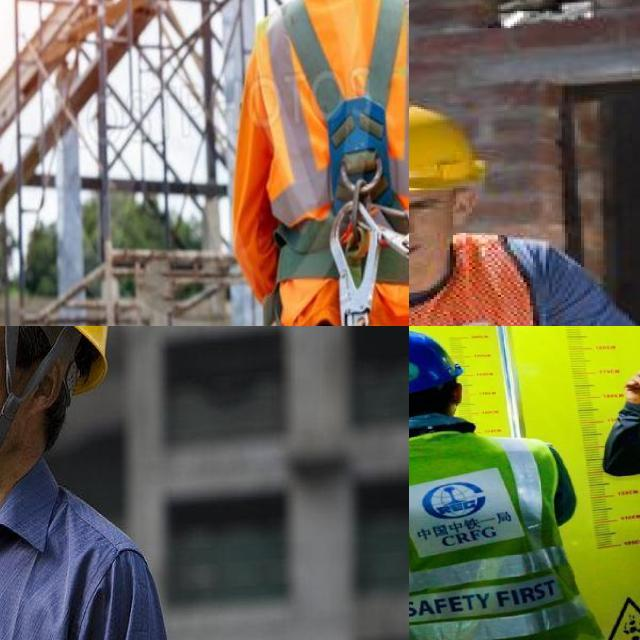Harness: (276, 0, 409, 326)
No_Ear-Protection: (12, 363, 65, 431), (452, 191, 476, 227)
No_Glasses: (409, 194, 449, 215)
face_nomask: (409, 225, 452, 278)
hand_noglove: (618, 361, 640, 412)
head_helmet: (409, 96, 496, 199), (409, 330, 467, 398)
person: (409, 327, 580, 640)
vest: (409, 439, 570, 640)
